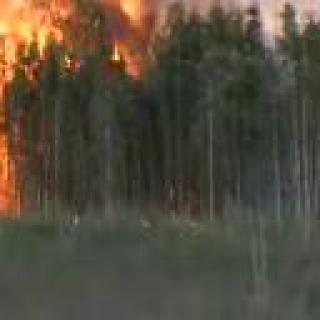fire: (56, 0, 159, 75), (0, 0, 30, 220)
